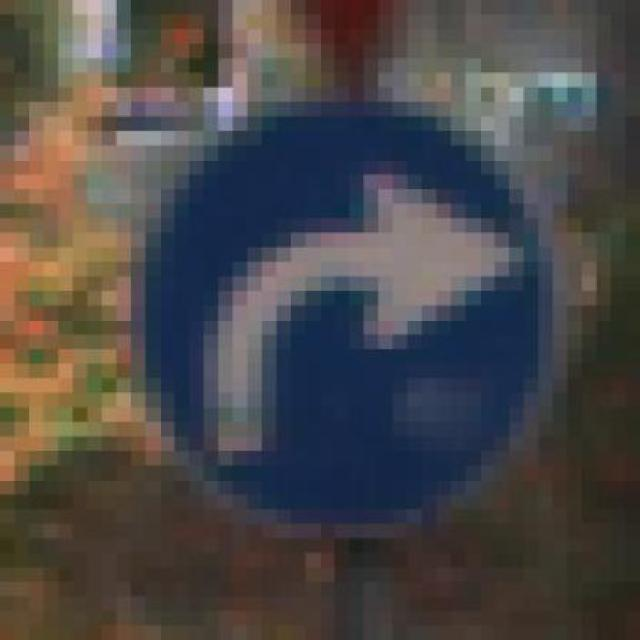Turn right ahead: (96, 61, 562, 541)
